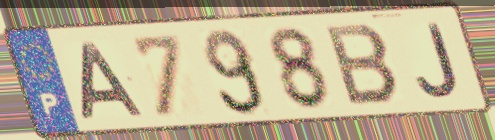7: (130, 31, 189, 121)
8: (266, 24, 335, 112)
9: (201, 25, 270, 119)
A: (79, 39, 149, 122)
B: (321, 22, 405, 108)
J: (413, 21, 462, 100)
